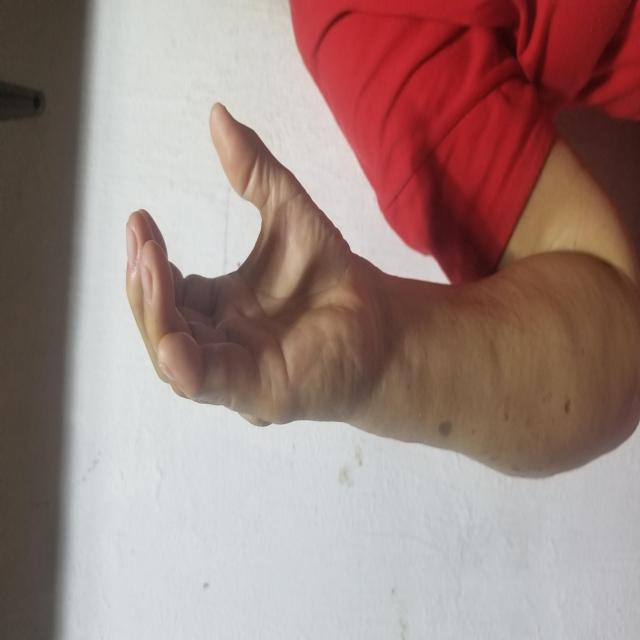C: (88, 80, 410, 473)
